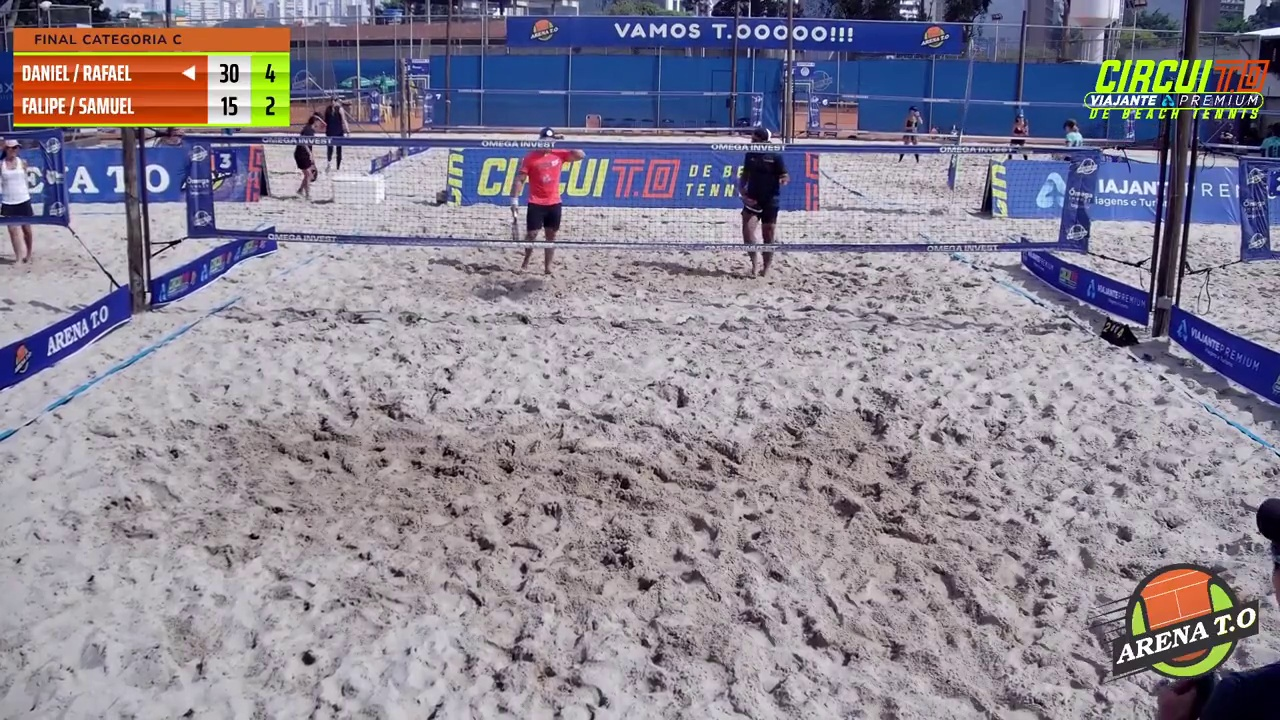court_line: (543, 0, 735, 382), (644, 0, 808, 350), (546, 0, 672, 345)
